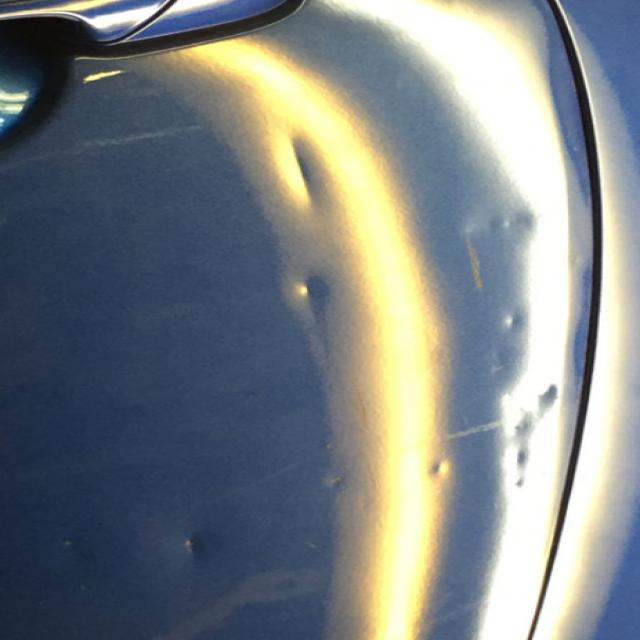dents: (250, 130, 336, 215), (278, 264, 353, 348), (444, 202, 558, 245), (160, 522, 233, 588), (489, 415, 540, 497), (40, 511, 84, 576), (314, 461, 367, 512), (485, 302, 544, 343), (512, 379, 572, 412)
